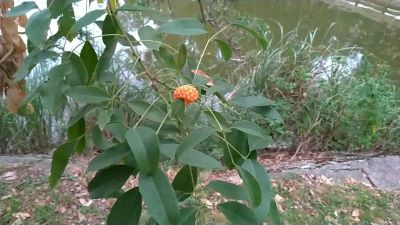eggs: (171, 81, 202, 104)
